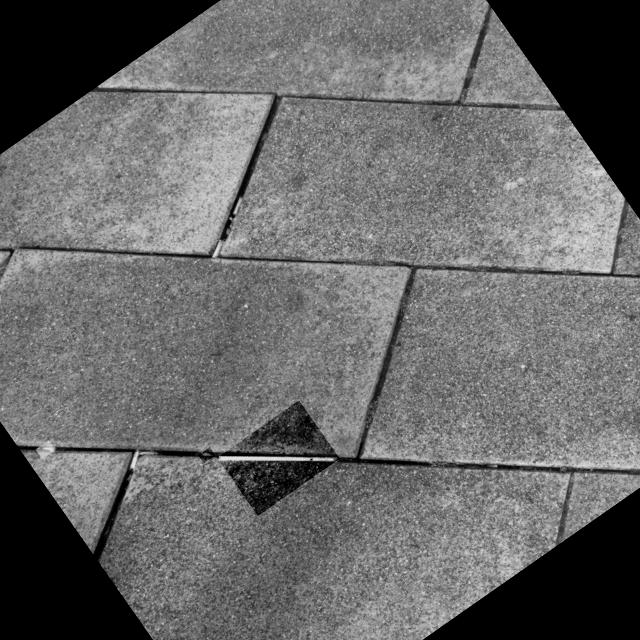Cigarette: (232, 195, 243, 216), (130, 450, 141, 470), (213, 239, 224, 257), (200, 452, 215, 457), (37, 447, 55, 451), (140, 451, 157, 455)
Straw: (219, 455, 339, 461)
